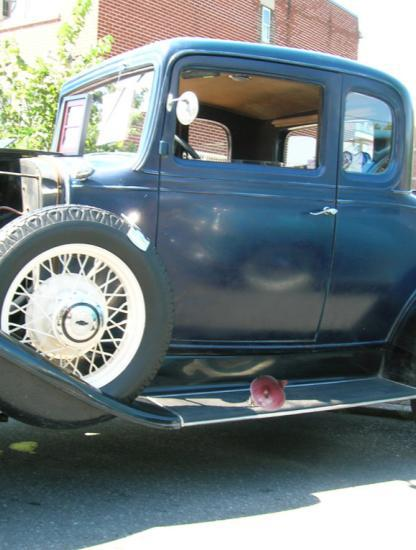Onion: (236, 367, 292, 423)
